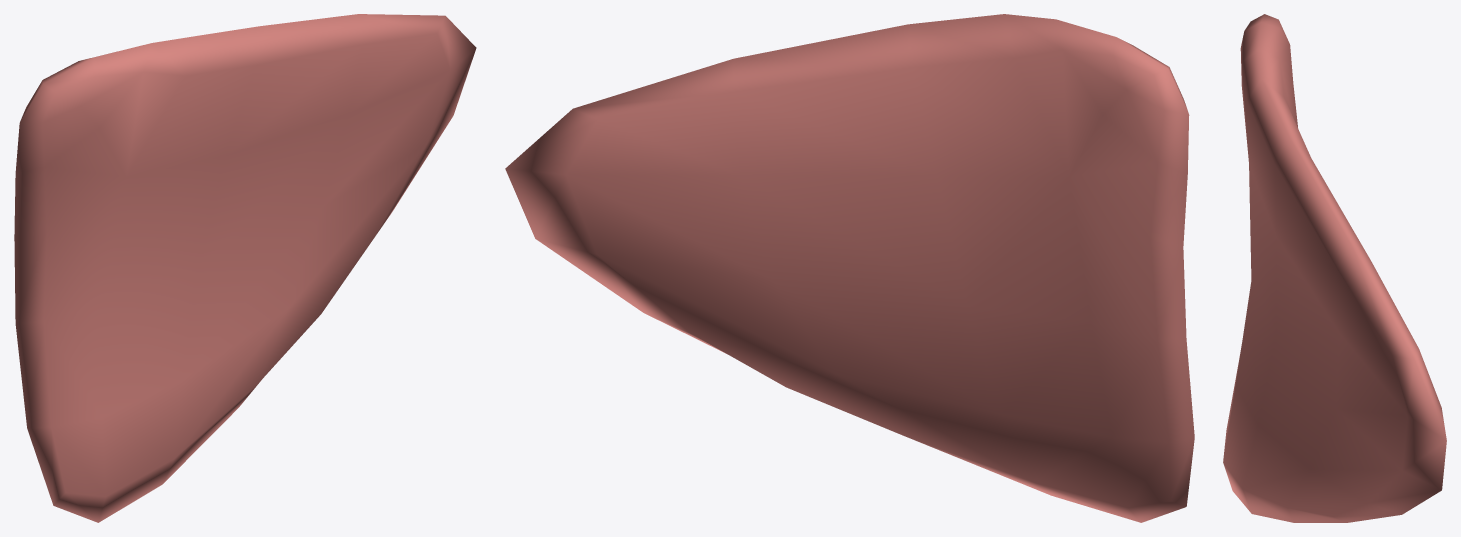
3 views of the same model, side by side, from view 1: azimuth 30°, elevation 25°; view 2: azimuth 150°, elevation 25°; view 3: azimuth 270°, elevation 25° (orthographic). The views are drawn at different scales.
Visible parts, largest first — view 1: ZA_95121ce363053366; view 2: ZA_95121ce363053366; view 3: ZA_95121ce363053366.
Part boxes in pixels (bbox=[...]): ZA_95121ce363053366: bbox=[14, 14, 476, 522]; ZA_95121ce363053366: bbox=[505, 14, 1194, 522]; ZA_95121ce363053366: bbox=[1223, 14, 1446, 522].
Bounding box in the file's own units: 0.00579 × 0.00463 × 0.00198.
